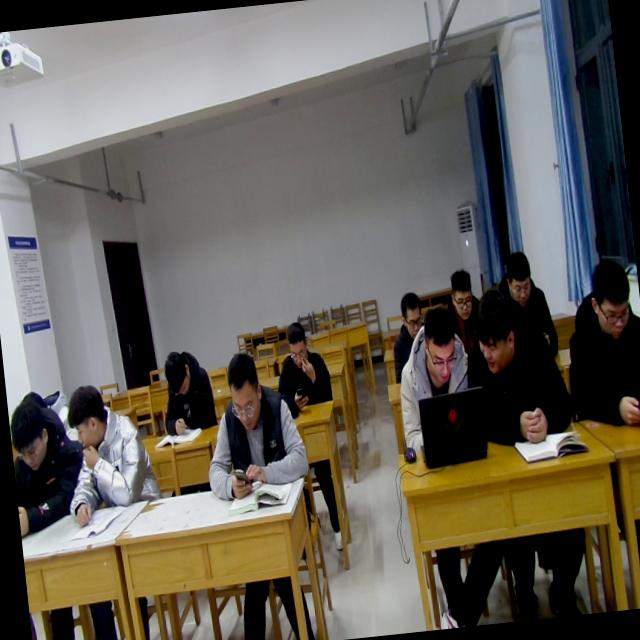down: (582, 254, 638, 346), (218, 348, 266, 435), (7, 392, 54, 477), (416, 302, 461, 390), (160, 342, 198, 406), (443, 264, 478, 328), (500, 248, 536, 306), (279, 318, 312, 372), (394, 283, 427, 337)
sit: (455, 276, 579, 450), (195, 343, 312, 504), (56, 374, 162, 530), (555, 251, 640, 432), (390, 300, 480, 467), (6, 386, 83, 539), (492, 246, 562, 356), (268, 315, 335, 417), (155, 339, 218, 438), (439, 262, 492, 348), (383, 287, 430, 382)
